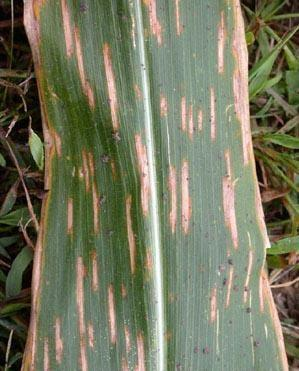Gray_Leaf_Spot: (20, 0, 84, 86), (32, 98, 65, 246), (218, 179, 278, 257), (214, 0, 255, 104), (255, 268, 295, 371), (15, 248, 47, 371), (75, 250, 106, 370), (157, 82, 217, 143), (107, 282, 146, 371), (207, 257, 255, 328), (228, 102, 261, 177), (167, 152, 194, 238), (74, 143, 122, 189), (99, 45, 124, 131), (136, 0, 187, 42), (120, 189, 141, 278), (134, 134, 156, 211), (88, 189, 108, 240), (83, 76, 100, 118), (53, 316, 67, 365), (189, 343, 225, 362), (66, 192, 79, 242), (141, 243, 154, 279), (133, 77, 145, 109), (166, 288, 182, 309), (164, 329, 175, 345)
